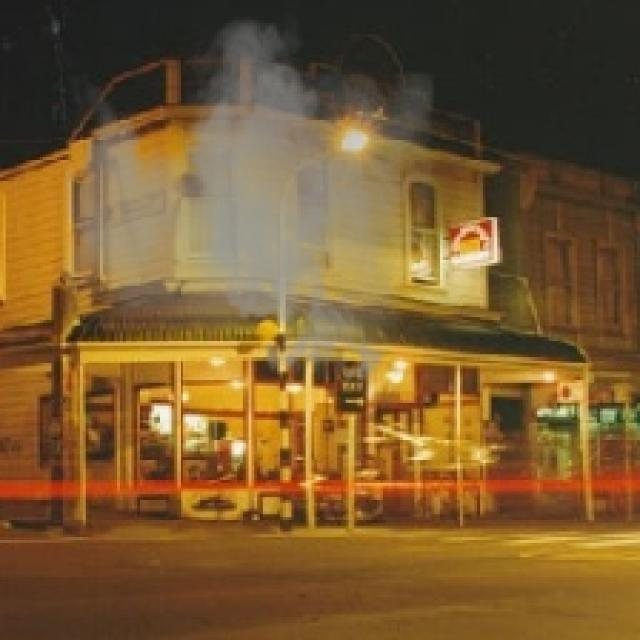Smoke: (59, 2, 434, 398)
